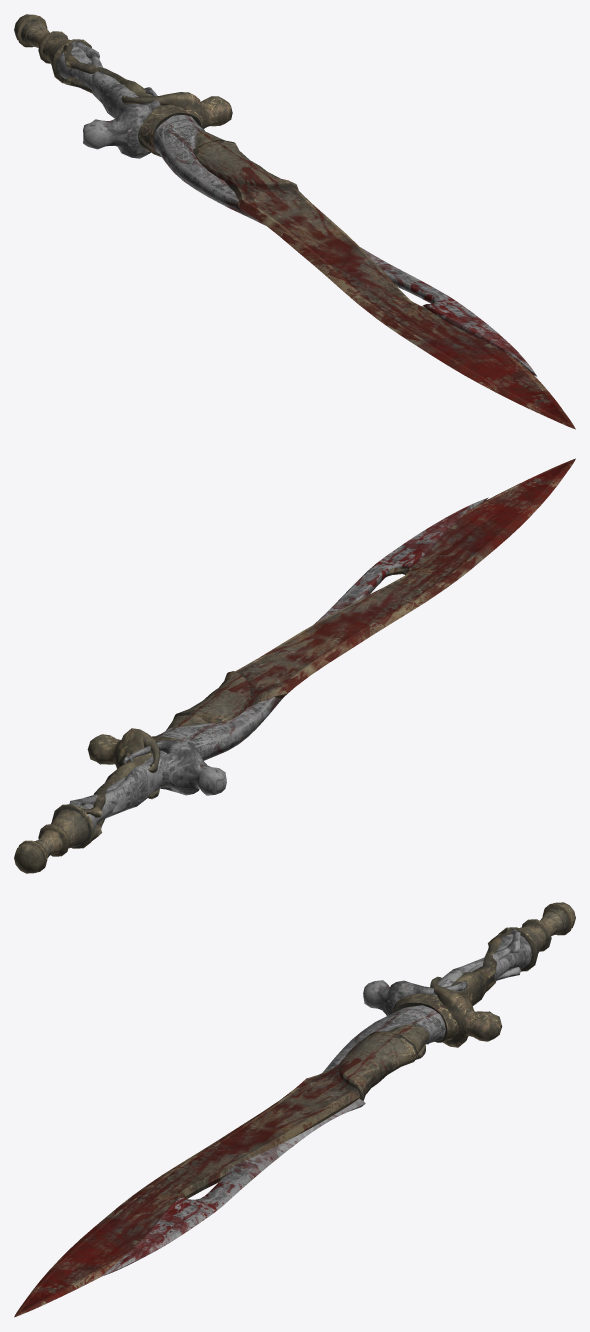
Rendered from inseperableswordv2.fbx.
3 views of the same model, one above another, from view 1: azimuth 30°, elevation 25°; view 2: azimuth 150°, elevation 25°; view 3: azimuth 330°, elevation 25° (orthographic).
Visible parts, largest first — view 1: WP_A_0633; view 2: WP_A_0633; view 3: WP_A_0633.
Part boxes in pixels (x1=…): WP_A_0633: x1=14, y1=14, x2=575, y2=429; WP_A_0633: x1=14, y1=458, x2=575, y2=873; WP_A_0633: x1=14, y1=902, x2=575, y2=1317.
Size of the model in its own units: 22.12 by 7.94 by 150.
Materials: 1 (1 with a texture image).
